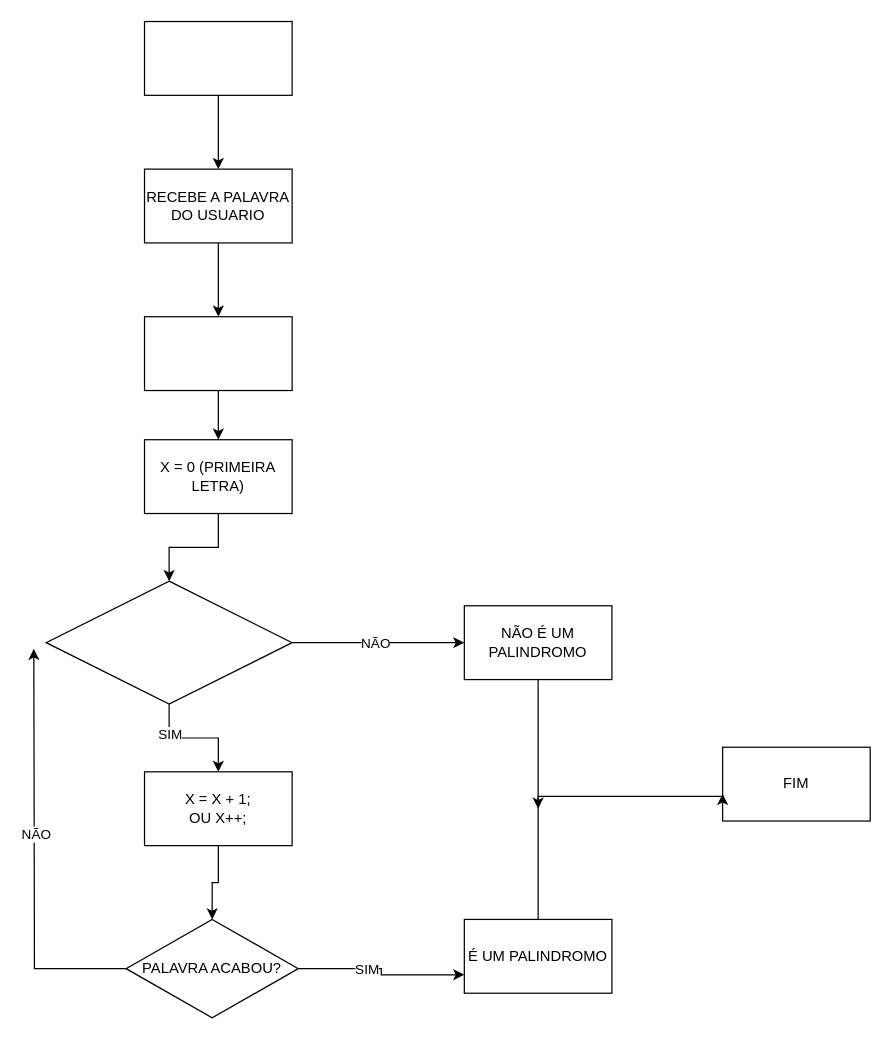
Image size: 892x1039. Some labels were removed from this diagram. Each missing label, with the centre of its shape:
"INICIO VERIFICAR PALINDROMO" belongs at point 217,57.
"LETRA X == X-1?" belongs at point 168,642.
"QUEBRA APALAVRA POR LETRA (aRRAY DE LETRAS)" belongs at point 217,353.
